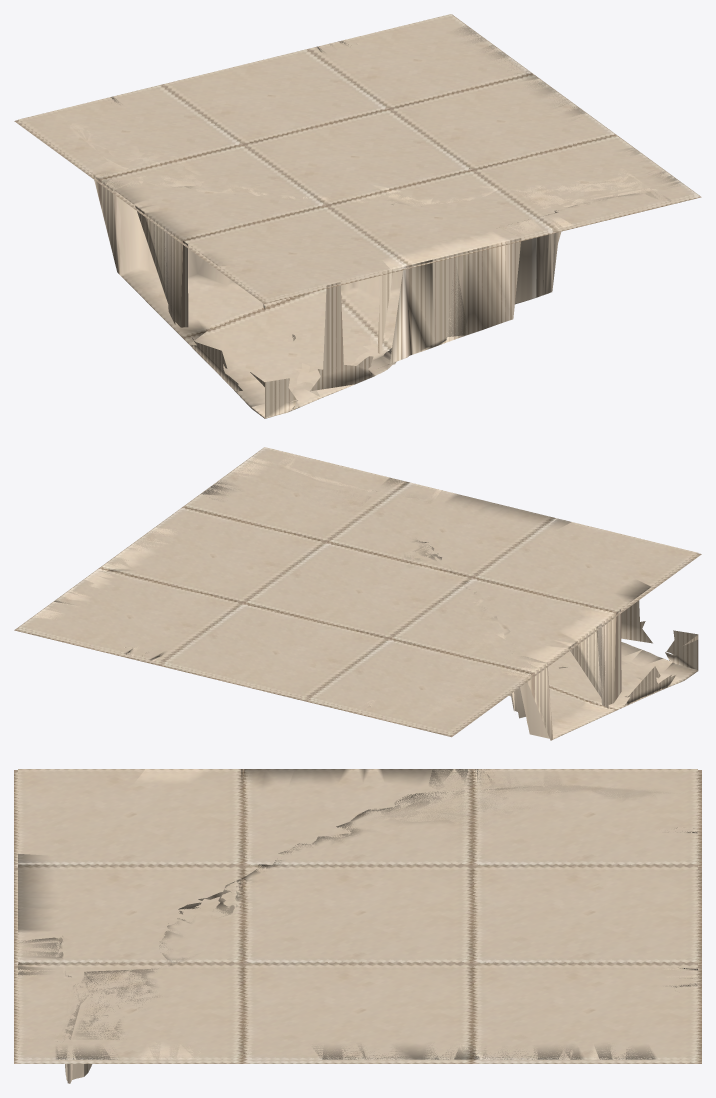
Rendered from FloorTileBeige.locked.glb.
The picture shows the model from 3 angles, top to bottom: view 1: azimuth 30°, elevation 25°; view 2: azimuth 150°, elevation 25°; view 3: azimuth 270°, elevation 25°; orthographic projection. The views are drawn at different scales.
Parts seen in each view (by area): view 1: tripo_part_11; view 2: tripo_part_11; view 3: tripo_part_11.
Boxes of the visible parts, x1=… form: tripo_part_11: x1=14, y1=14, x2=701, y2=418; tripo_part_11: x1=14, y1=447, x2=701, y2=740; tripo_part_11: x1=14, y1=769, x2=701, y2=1083.
Size of the model in its own units: 0.1406 by 0.0363 by 0.1391.
1 material, 1 textured.
